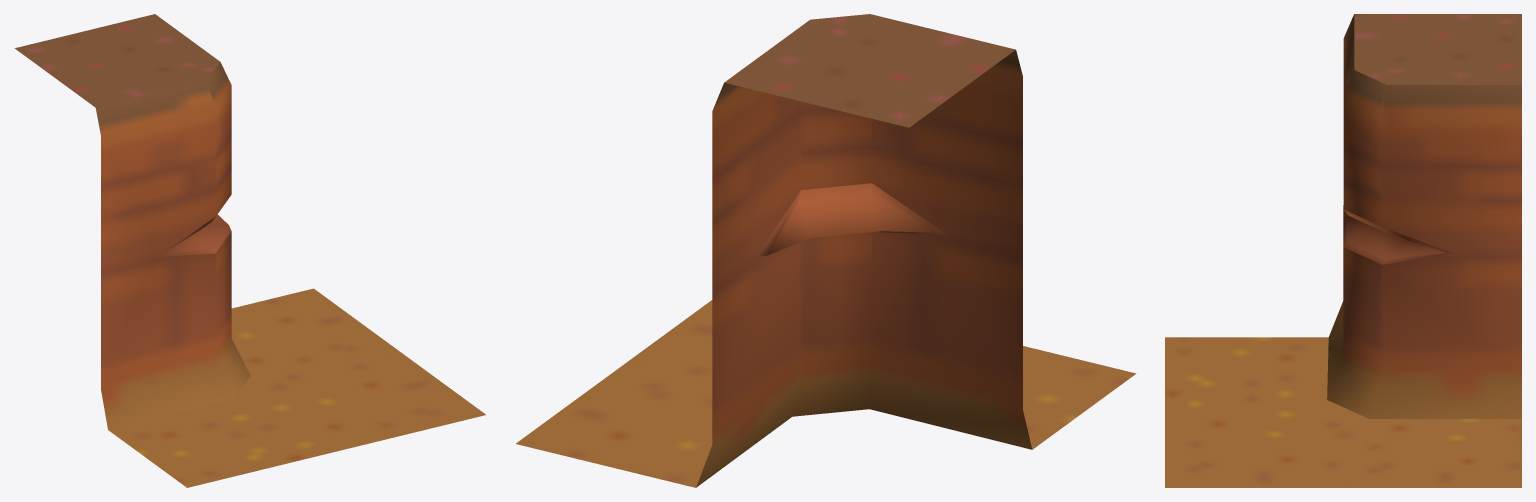
The model's file is canion_corner_v02.fbx.
3 views of the same model, side by side, from view 1: azimuth 30°, elevation 25°; view 2: azimuth 150°, elevation 25°; view 3: azimuth 270°, elevation 25° (orthographic). The views are drawn at different scales.
Visible parts, largest first — view 1: canion_corner_v02; view 2: canion_corner_v02; view 3: canion_corner_v02.
Boxes of the visible parts, box(x1,y1,x2,y2) form: canion_corner_v02: box(15, 14, 485, 487); canion_corner_v02: box(516, 14, 1136, 487); canion_corner_v02: box(1165, 14, 1521, 487).
Size of the model in its own units: 400 by 400 by 400.
